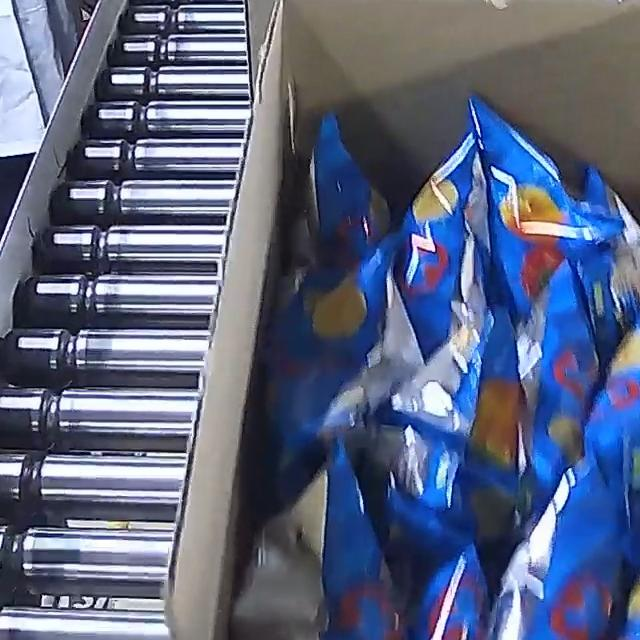paprika: (233, 91, 640, 640)
